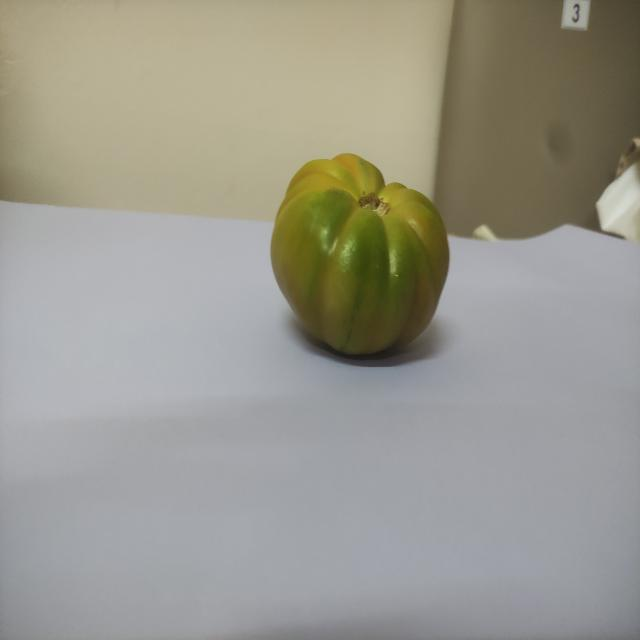yesil: (267, 133, 454, 376)
